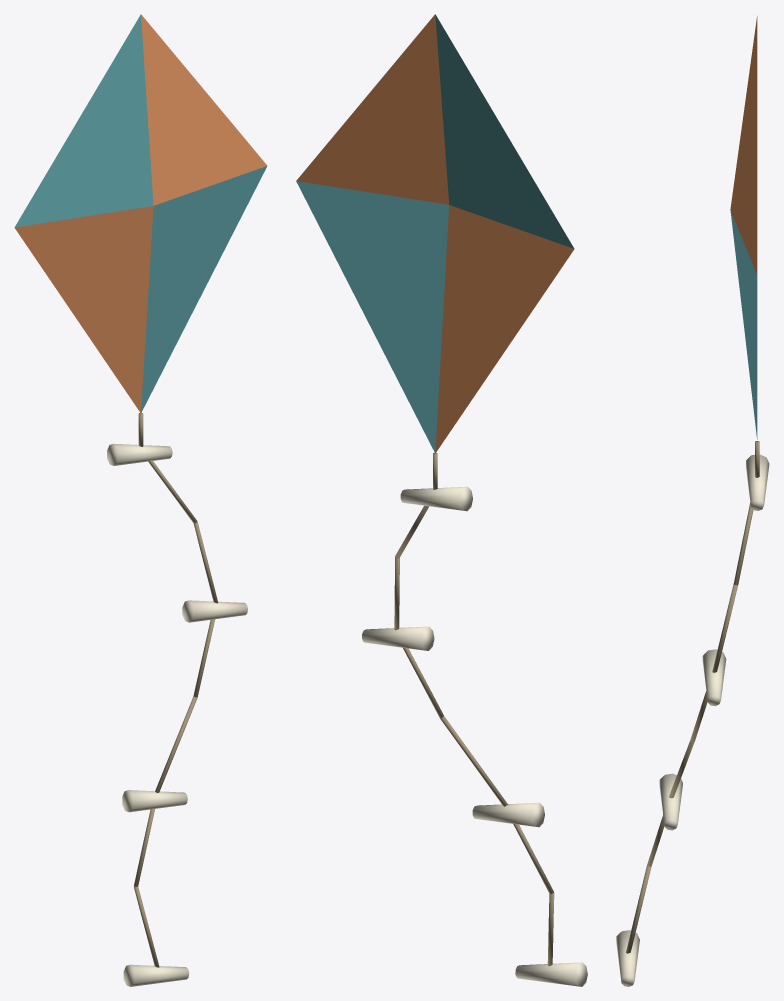
File: beta_kite.glb
3 views of the same model, side by side, from view 1: azimuth 30°, elevation 25°; view 2: azimuth 150°, elevation 25°; view 3: azimuth 270°, elevation 25° (orthographic). The views are drawn at different scales.
Parts seen in each view (by area): view 1: Breeze sun faded teal, Beta warm canvas, Beta rope; view 2: Breeze sun faded teal, Beta warm canvas, Beta rope; view 3: Breeze sun faded teal, Beta warm canvas, Beta rope.
Boxes of the visible parts, <box> form: Breeze sun faded teal: <box>14,14,267,412</box>; Beta warm canvas: <box>107,443,247,986</box>; Beta rope: <box>134,412,218,967</box>; Breeze sun faded teal: <box>296,14,574,453</box>; Beta warm canvas: <box>362,486,587,986</box>; Beta rope: <box>394,452,554,966</box>; Breeze sun faded teal: <box>730,16,757,439</box>; Beta warm canvas: <box>616,454,769,986</box>; Beta rope: <box>626,441,759,953</box>.
Size of the model in its own units: 1.16 by 4.01 by 0.5673.
